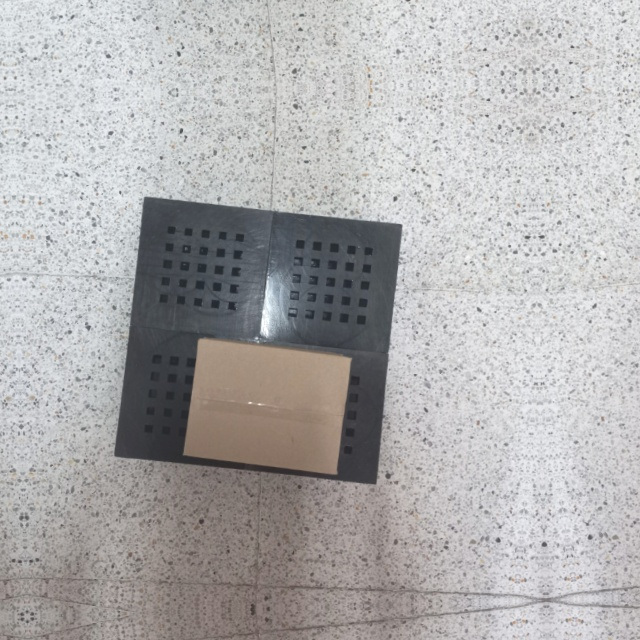box: (177, 333, 356, 480)
pallet: (104, 187, 410, 494)
